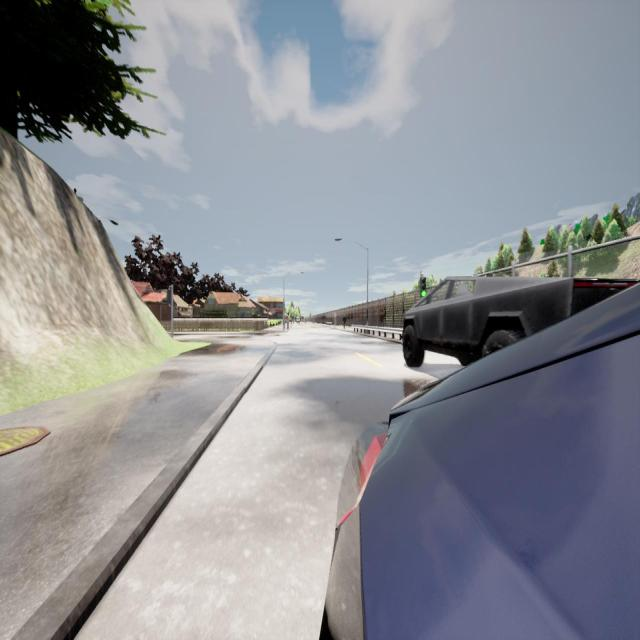Pedestrian: (342, 314, 347, 330), (286, 312, 290, 330)
Vehicle: (318, 284, 640, 640), (397, 275, 640, 370), (296, 316, 300, 324)
traffic_light: (419, 277, 426, 297), (168, 290, 172, 304)
